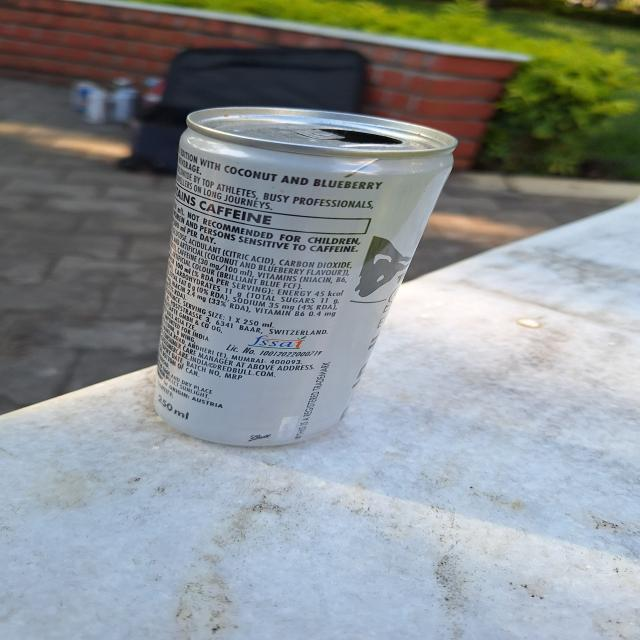Redbull Summer Edition: (142, 99, 463, 446)
